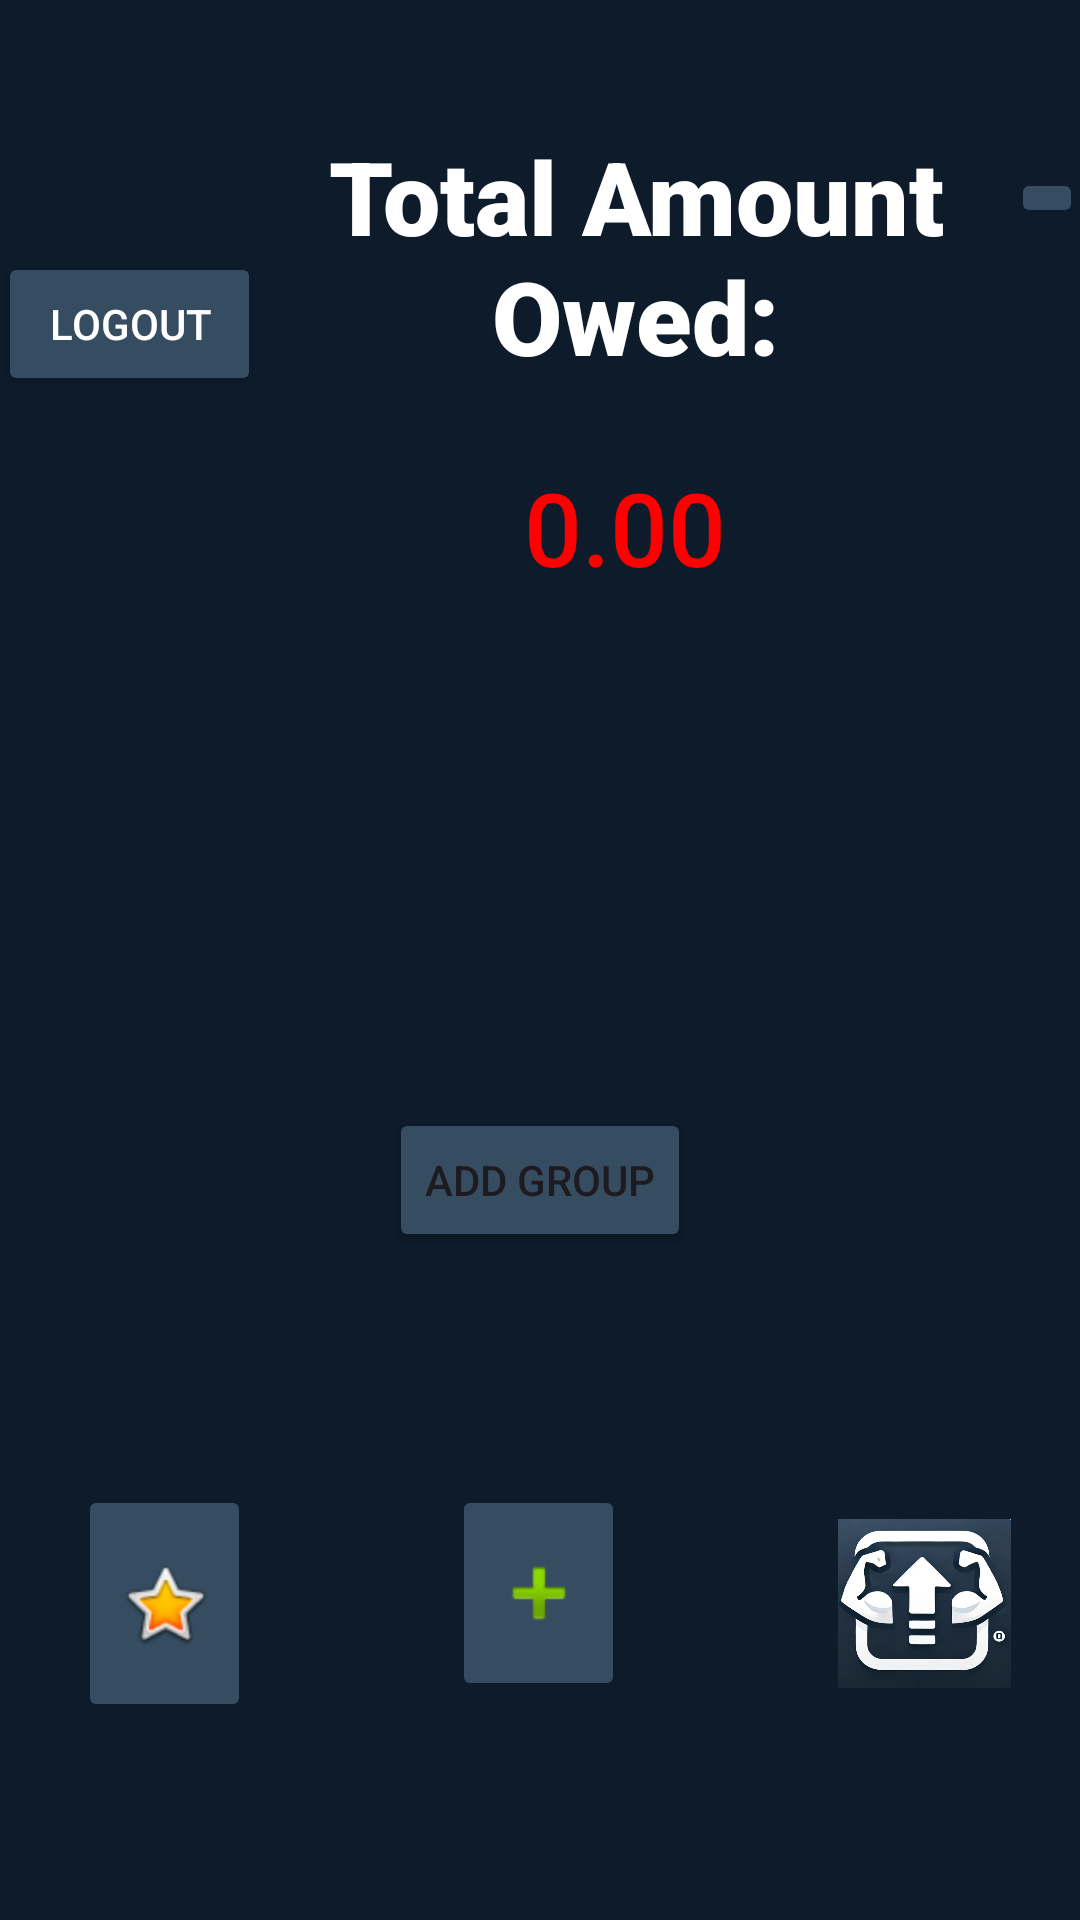

Locate icon controls on the screen. Image size 1080x1920, boxes as (x1, y1, x2, y2).
add: (464, 1503, 613, 1683)
star on: (90, 1503, 239, 1704)
